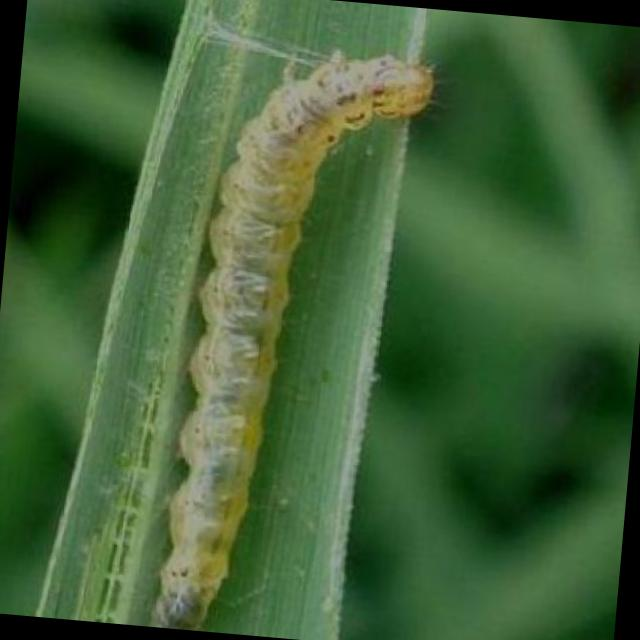leaf-folder: (111, 19, 484, 640)
